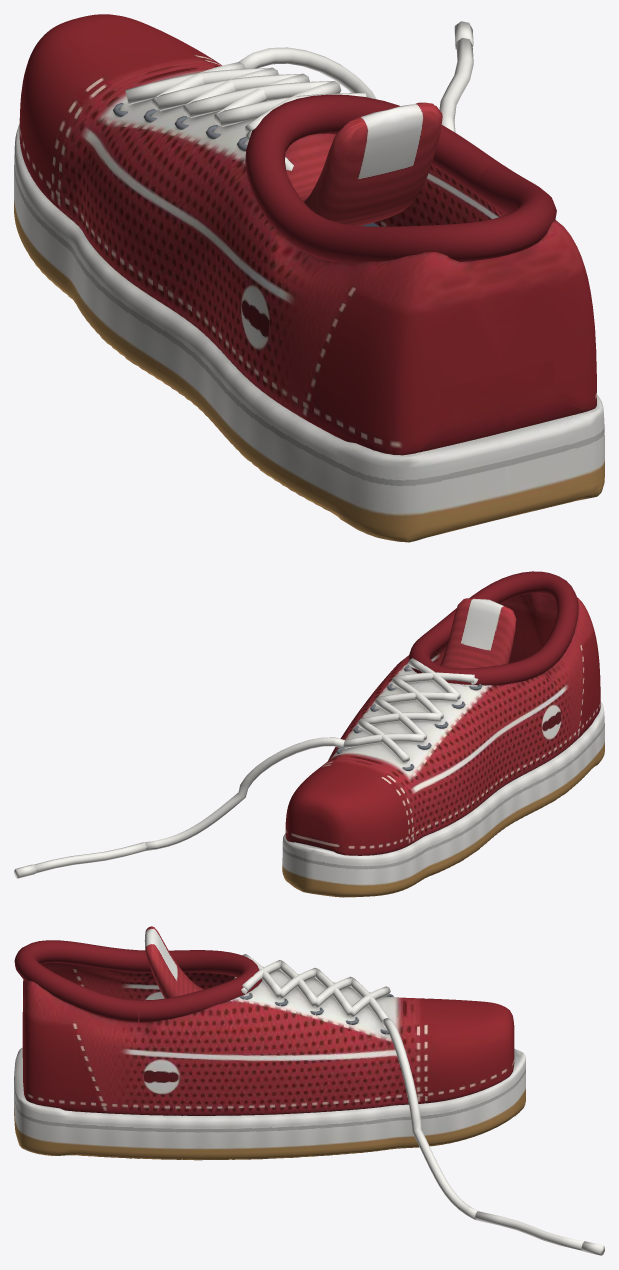
File: shoes-sneakera.glb
3 views of the same model, one above another, from view 1: azimuth 30°, elevation 25°; view 2: azimuth 150°, elevation 25°; view 3: azimuth 270°, elevation 25° (orthographic). The views are drawn at different scales.
Parts seen in each view (by area): view 1: SneakerA__Upper, SneakerA__Sole, SneakerA__Collar, SneakerA__Tongue, SneakerA__Laces; view 2: SneakerA__Upper, SneakerA__Sole, SneakerA__Laces, SneakerA__Collar, SneakerA__Tongue, SneakerA__Eyelets; view 3: SneakerA__Upper, SneakerA__Sole, SneakerA__Collar, SneakerA__Laces, SneakerA__Tongue.
Part boxes in pixels (bbox=[...]): SneakerA__Upper: bbox=[19, 14, 596, 455]; SneakerA__Sole: bbox=[14, 124, 604, 542]; SneakerA__Collar: bbox=[245, 94, 556, 263]; SneakerA__Tongue: bbox=[285, 102, 442, 225]; SneakerA__Laces: bbox=[125, 21, 473, 170]; SneakerA__Upper: bbox=[285, 592, 600, 855]; SneakerA__Sole: bbox=[282, 702, 604, 897]; SneakerA__Laces: bbox=[14, 658, 478, 878]; SneakerA__Collar: bbox=[408, 571, 578, 685]; SneakerA__Tongue: bbox=[440, 598, 516, 684]; SneakerA__Eyelets: bbox=[336, 665, 481, 770]; SneakerA__Upper: bbox=[22, 962, 514, 1115]; SneakerA__Sole: bbox=[14, 1047, 525, 1160]; SneakerA__Collar: bbox=[14, 940, 262, 1022]; SneakerA__Laces: bbox=[234, 954, 604, 1255]; SneakerA__Tongue: bbox=[144, 926, 203, 998].
Bounding box in the file's own units: 26.87 × 13.94 × 39.19.
Materials: 7 (3 with a texture image).
